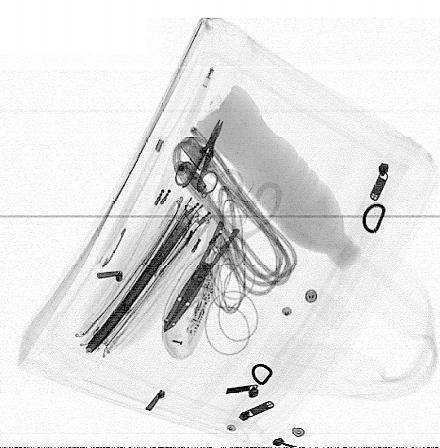Scissors: (162, 167, 283, 335), (174, 118, 224, 200)
